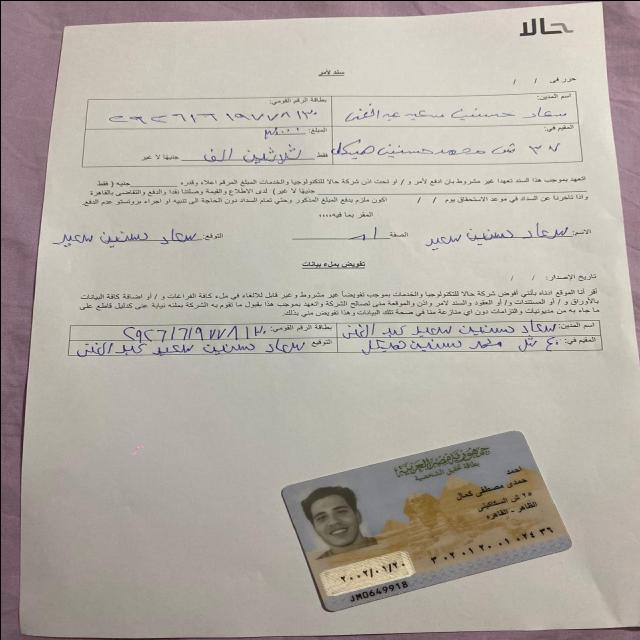id_card: (273, 423, 580, 618)
